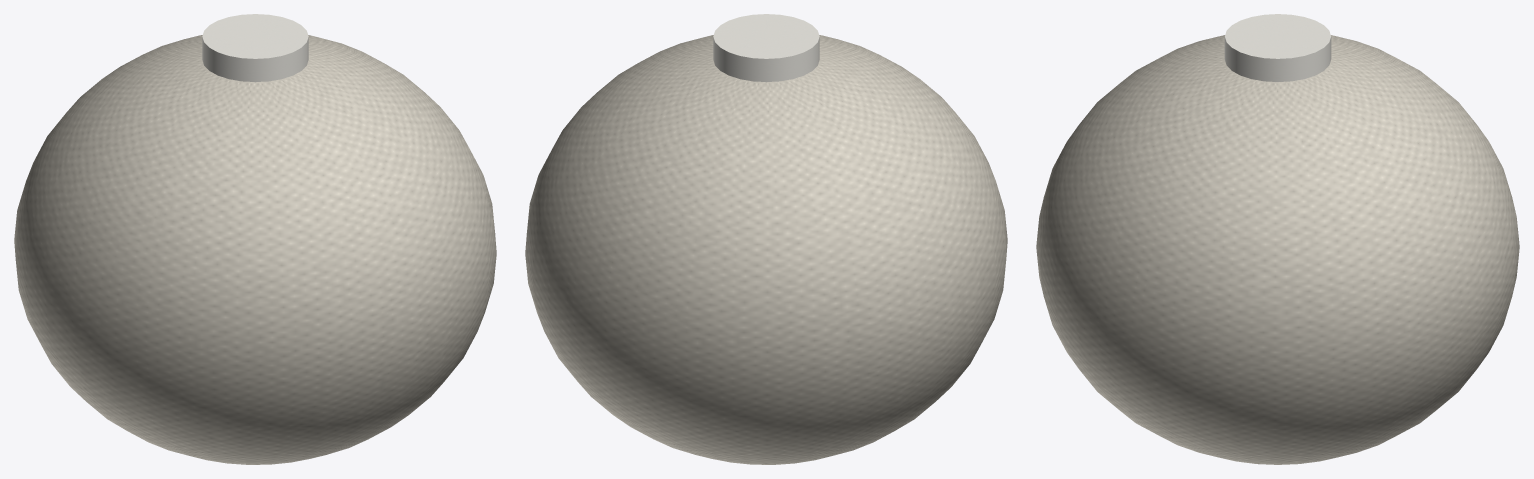
The model's file is regnskur.glb.
The picture shows the model from 3 angles, left to right: view 1: azimuth 30°, elevation 25°; view 2: azimuth 150°, elevation 25°; view 3: azimuth 270°, elevation 25°; orthographic projection.
Parts seen in each view (by area): view 1: REGNSKUR / SUNNEBY Pendant lamp; view 2: REGNSKUR / SUNNEBY Pendant lamp; view 3: REGNSKUR / SUNNEBY Pendant lamp.
Part boxes in pixels (left/top/right/bottom): REGNSKUR / SUNNEBY Pendant lamp: left=14, top=14, right=496, bottom=464; REGNSKUR / SUNNEBY Pendant lamp: left=525, top=14, right=1007, bottom=464; REGNSKUR / SUNNEBY Pendant lamp: left=1036, top=14, right=1519, bottom=464.
Size of the model in its own units: 0.5 by 0.46 by 0.5.
Materials: 2 (2 with a texture image).
